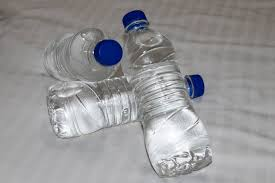Botella: (45, 10, 211, 176)
